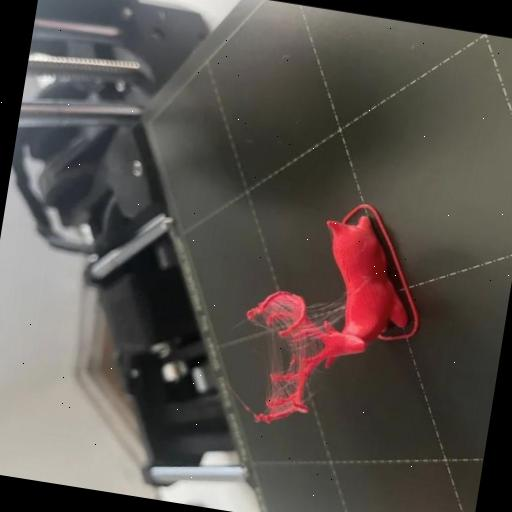stringing: (308, 295, 343, 327), (294, 332, 320, 362), (266, 333, 287, 370), (266, 294, 298, 318), (270, 378, 296, 402)
